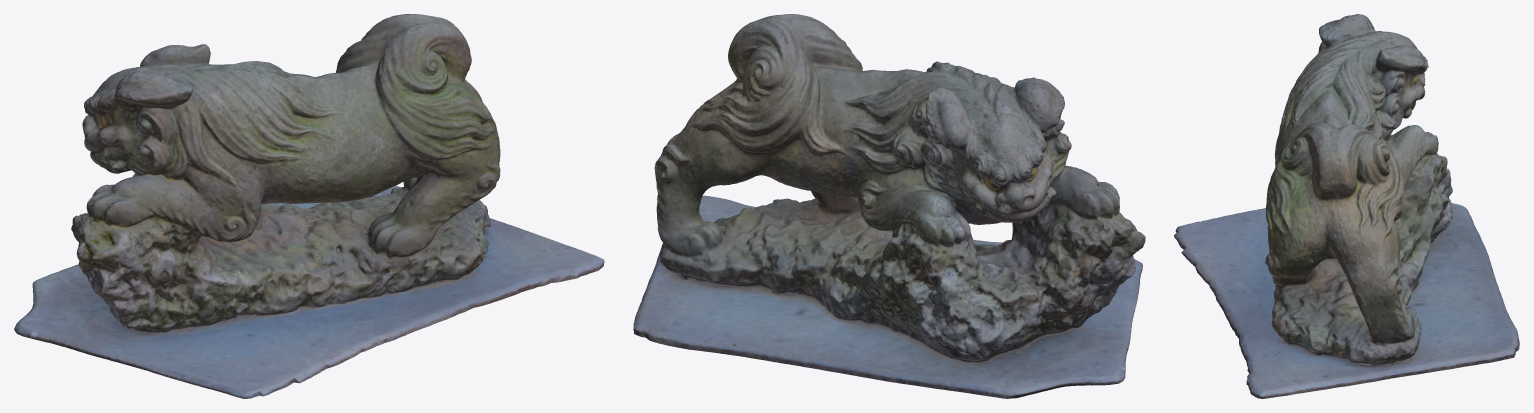
The model's file is sf-tanashi-jinja-shrine-4fe1f8.glb.
The picture shows the model from 3 angles, left to right: view 1: azimuth 30°, elevation 25°; view 2: azimuth 150°, elevation 25°; view 3: azimuth 270°, elevation 25°; orthographic projection. The views are drawn at different scales.
Parts seen in each view (by area): view 1: Object_2; view 2: Object_2; view 3: Object_2.
Part boxes in pixels (left/top/right/bottom): Object_2: left=14, top=14, right=604, bottom=398; Object_2: left=633, top=14, right=1145, bottom=398; Object_2: left=1174, top=14, right=1519, bottom=398.
Size of the model in its own units: 13.92 by 6.48 by 9.5.
1 material, 1 textured.
